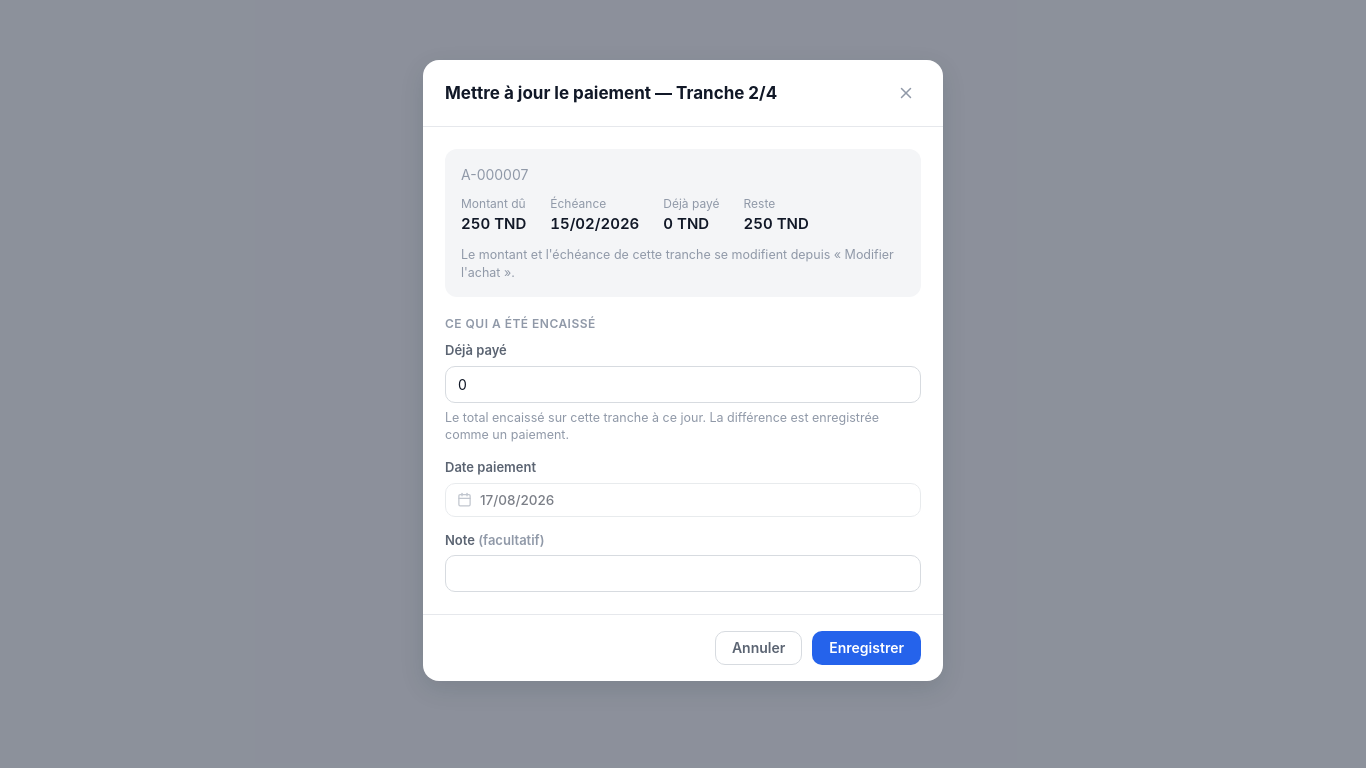
Test case: EditInstallmentModal — the locks it shows › refuses to collect more than the tranche is worth, before any round trip
The image size is (1366, 768).
Replace the text in the number field with id "inst-paid" with "900" at {"x": 683, "y": 384}, box [445,366,921,403]
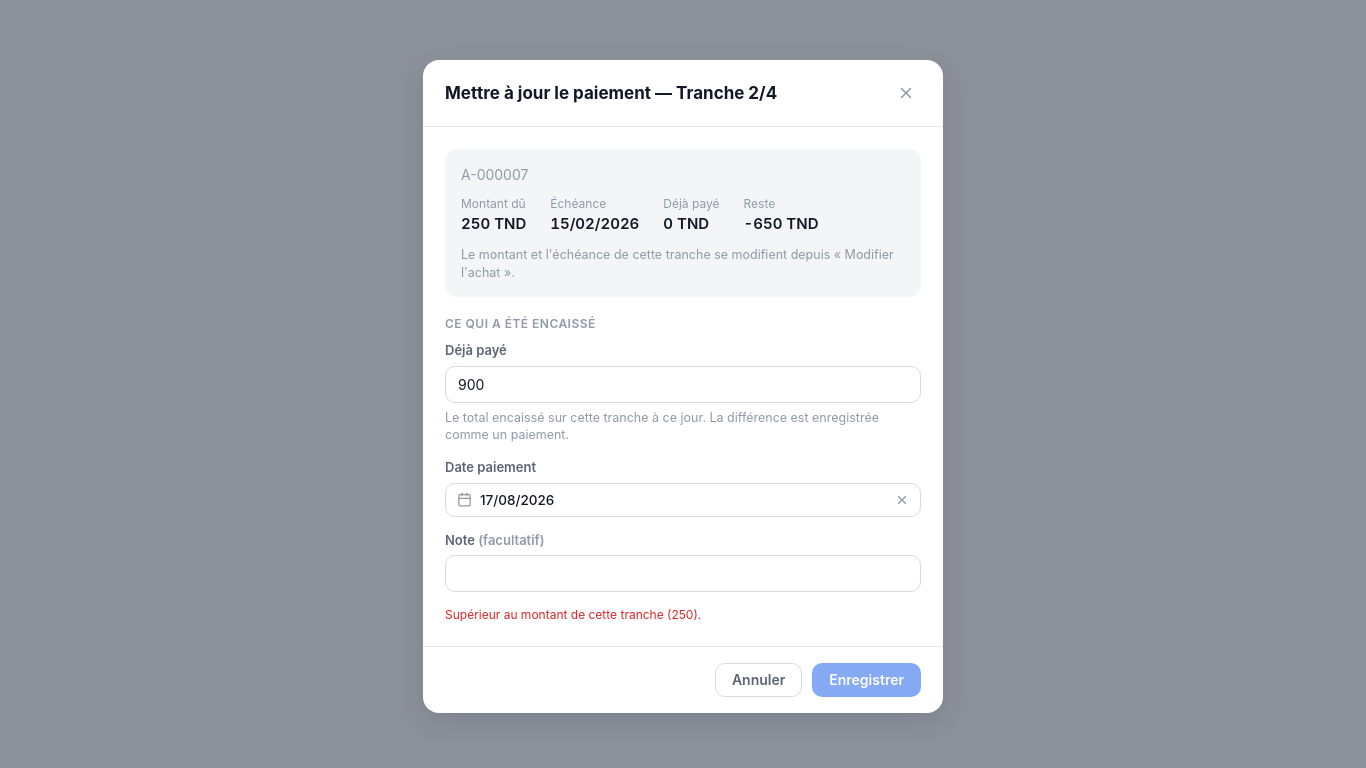
Result: the button with class "btn--primary" is disabled at [812,663,921,697]
